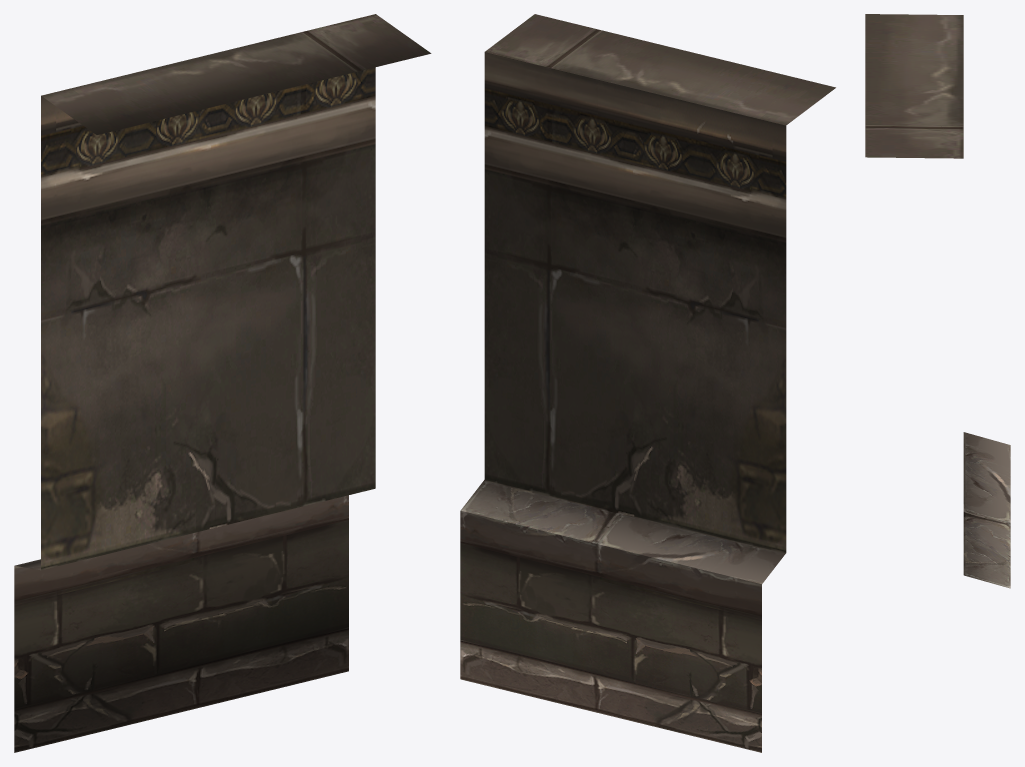
Rendered from a06_01_wall_k001_short.FBX.
3 renders of one model, left to right at view 1: azimuth 30°, elevation 25°; view 2: azimuth 150°, elevation 25°; view 3: azimuth 270°, elevation 25°, orthographic. The views are drawn at different scales.
Parts seen in each view (by area): view 1: a06_01_wall_k001_short; view 2: a06_01_wall_k001_short; view 3: a06_01_wall_k001_short.
Boxes of the visible parts, x1,y1,x2,y2 form: a06_01_wall_k001_short: (14, 14, 431, 752); a06_01_wall_k001_short: (460, 14, 835, 752); a06_01_wall_k001_short: (865, 14, 1010, 588).
Size of the model in its own units: 2.47 by 4.78 by 1.05.
